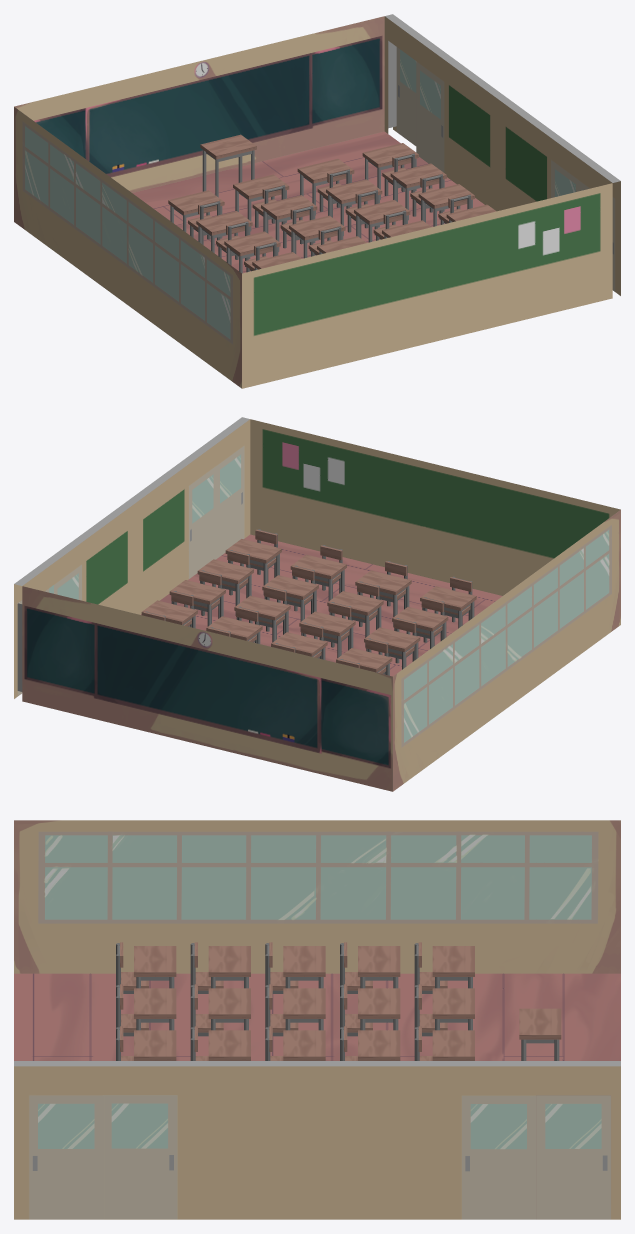
The model's file is kyusitu_3.fbx.
The picture shows the model from 3 angles, top to bottom: view 1: azimuth 30°, elevation 25°; view 2: azimuth 150°, elevation 25°; view 3: azimuth 270°, elevation 25°; orthographic projection. The views are drawn at different scales.
Parts seen in each view (by area): view 1: polySurface2, group6, dore, kyoutaku, tukue, isu; view 2: polySurface2, group6; view 3: polySurface2, group6, dore, kyoutaku, tukue.
Boxes of the visible parts, <box> form: polySurface2: <box>14,14,620,388</box>; group6: <box>168,143,496,273</box>; dore: <box>396,47,416,145</box>; kyoutaku: <box>200,134,256,197</box>; tukue: <box>233,175,289,222</box>; isu: <box>252,184,284,232</box>; polySurface2: <box>14,417,620,791</box>; group6: <box>141,529,476,675</box>; polySurface2: <box>14,820,620,1219</box>; group6: <box>116,942,474,1060</box>; dore: <box>536,1095,610,1219</box>; kyoutaku: <box>519,1008,561,1060</box>; tukue: <box>432,1030,474,1056</box>.
Size of the model in its own units: 23.39 by 6.8 by 24.39.
